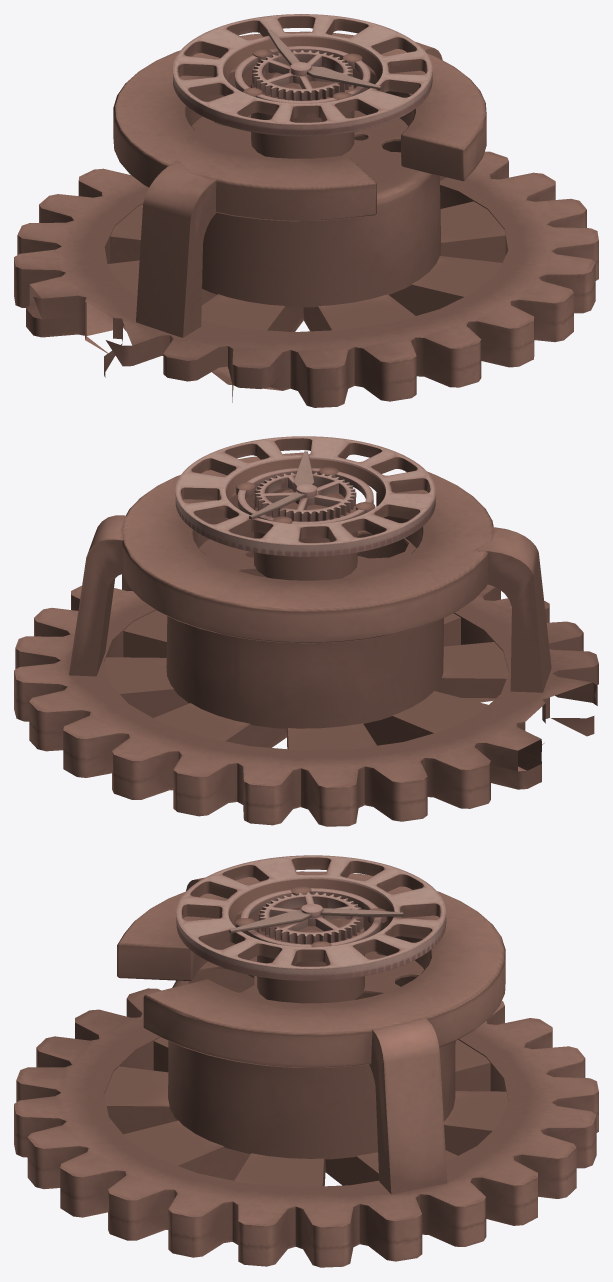
File: relojengrane2.obj
3 renders of one model, top to bottom at view 1: azimuth 30°, elevation 25°; view 2: azimuth 150°, elevation 25°; view 3: azimuth 270°, elevation 25°, orthographic. The views are drawn at different scales.
Parts seen in each view (by area): view 1: Part_003_part_03_0.001; view 2: Part_003_part_03_0.001; view 3: Part_003_part_03_0.001.
Boxes of the visible parts, x1,y1,x2,y2 form: Part_003_part_03_0.001: (14,14,598,407); Part_003_part_03_0.001: (14,436,598,826); Part_003_part_03_0.001: (14,855,598,1267).
Bounding box in the file's own units: 2.24 × 0.9297 × 2.14.
